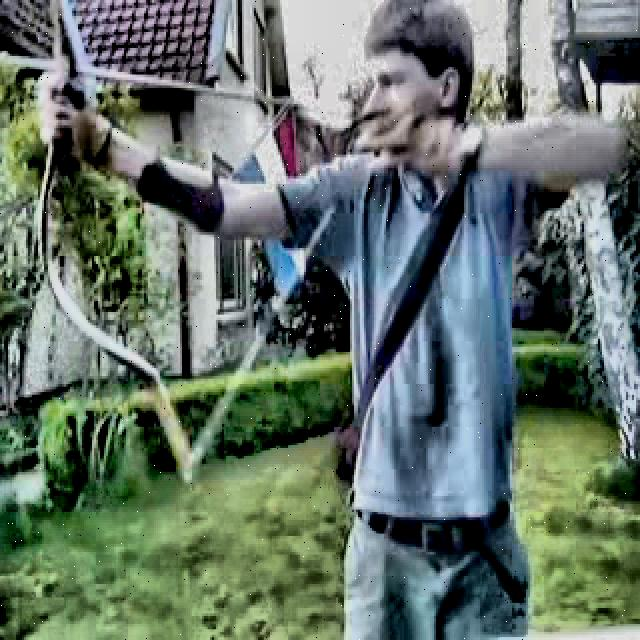P: (40, 7, 630, 635)
